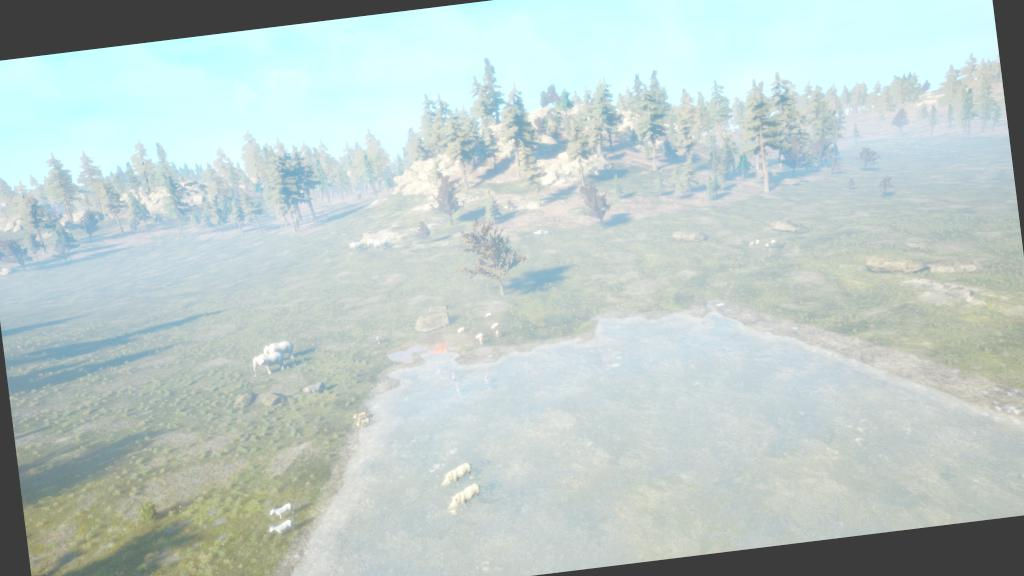Fire: (426, 341, 452, 358)
elephant: (234, 335, 319, 386)
hippopotamus: (299, 376, 340, 401)
lion: (346, 401, 381, 435)
pig: (450, 302, 512, 350)
rhinoceros: (436, 478, 496, 520), (430, 454, 479, 491)
zebra: (266, 516, 300, 540), (264, 502, 296, 525)
